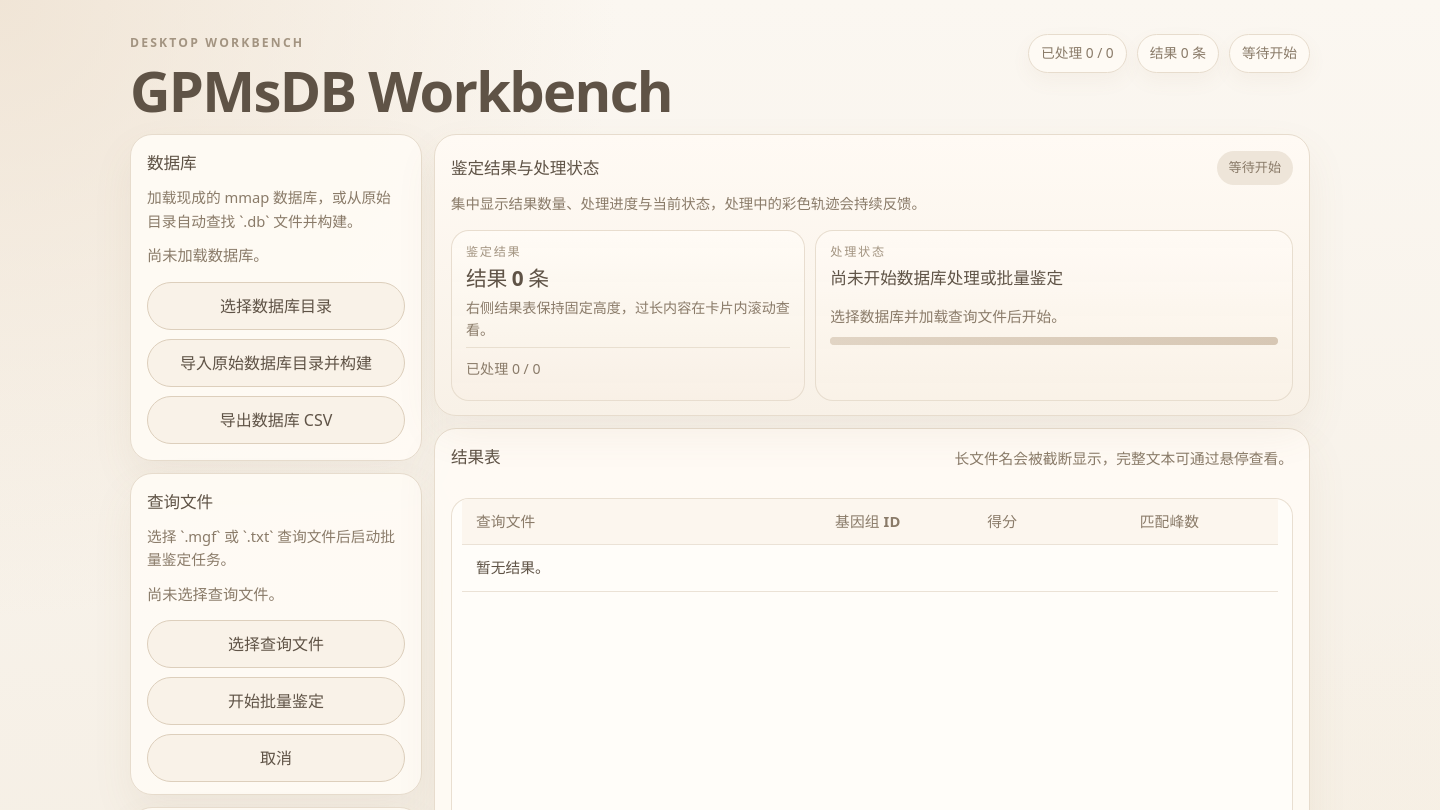
reacts to database selection and batch start button clicks
This screenshot has width=1440, height=810.
Click the button "选择数据库目录".
click(276, 306)  # box 147,282 -> 405,330
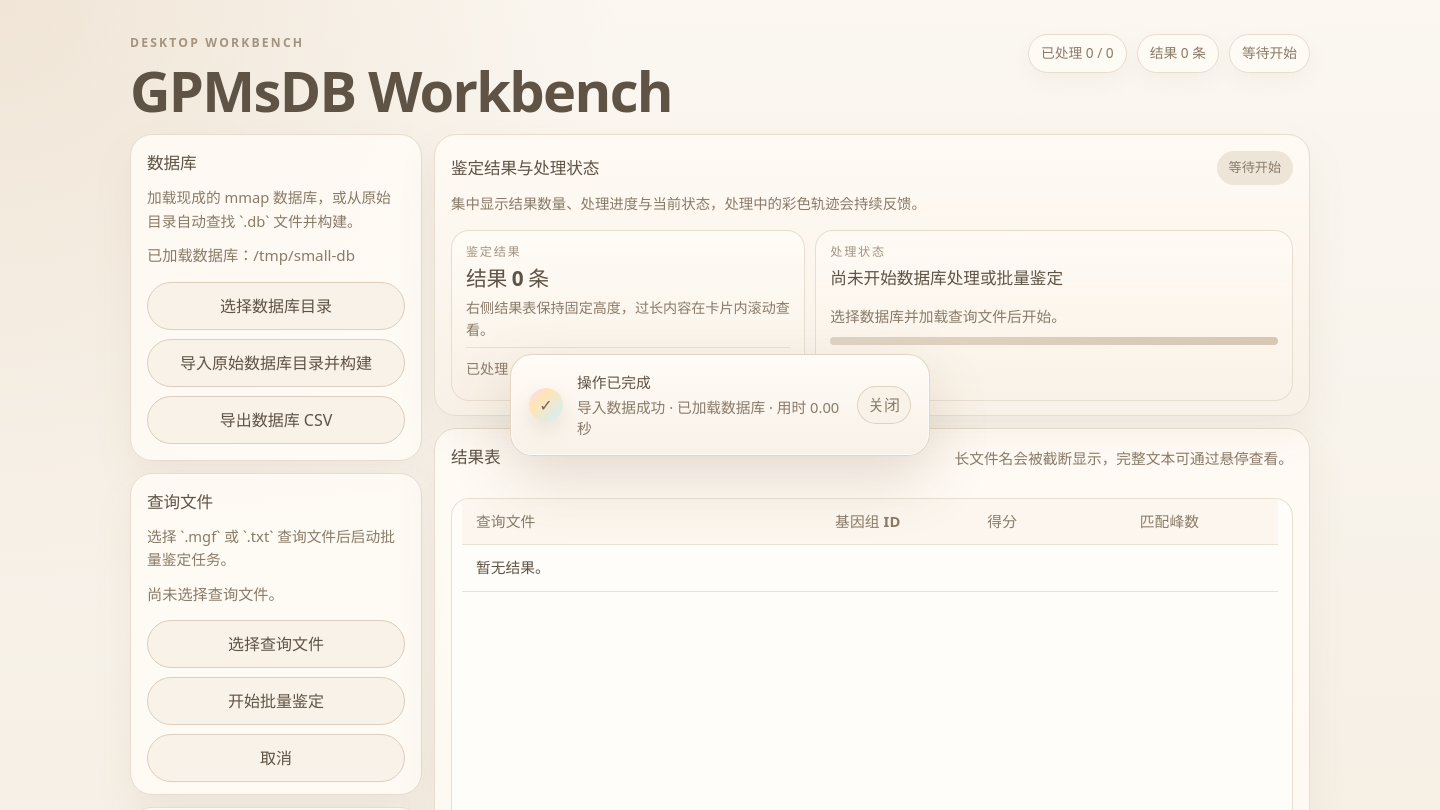
Check: the text "已加载数据库：/tmp/small-db" is shown, box 147,245 -> 355,265
Check: the text "导入数据成功 · 已加载数据库 · 用时 0.00 秒" is shown, box 577,397 -> 843,439
Click the button "导入原始数据库目录并构建".
click(276, 363)  # box 147,339 -> 405,387
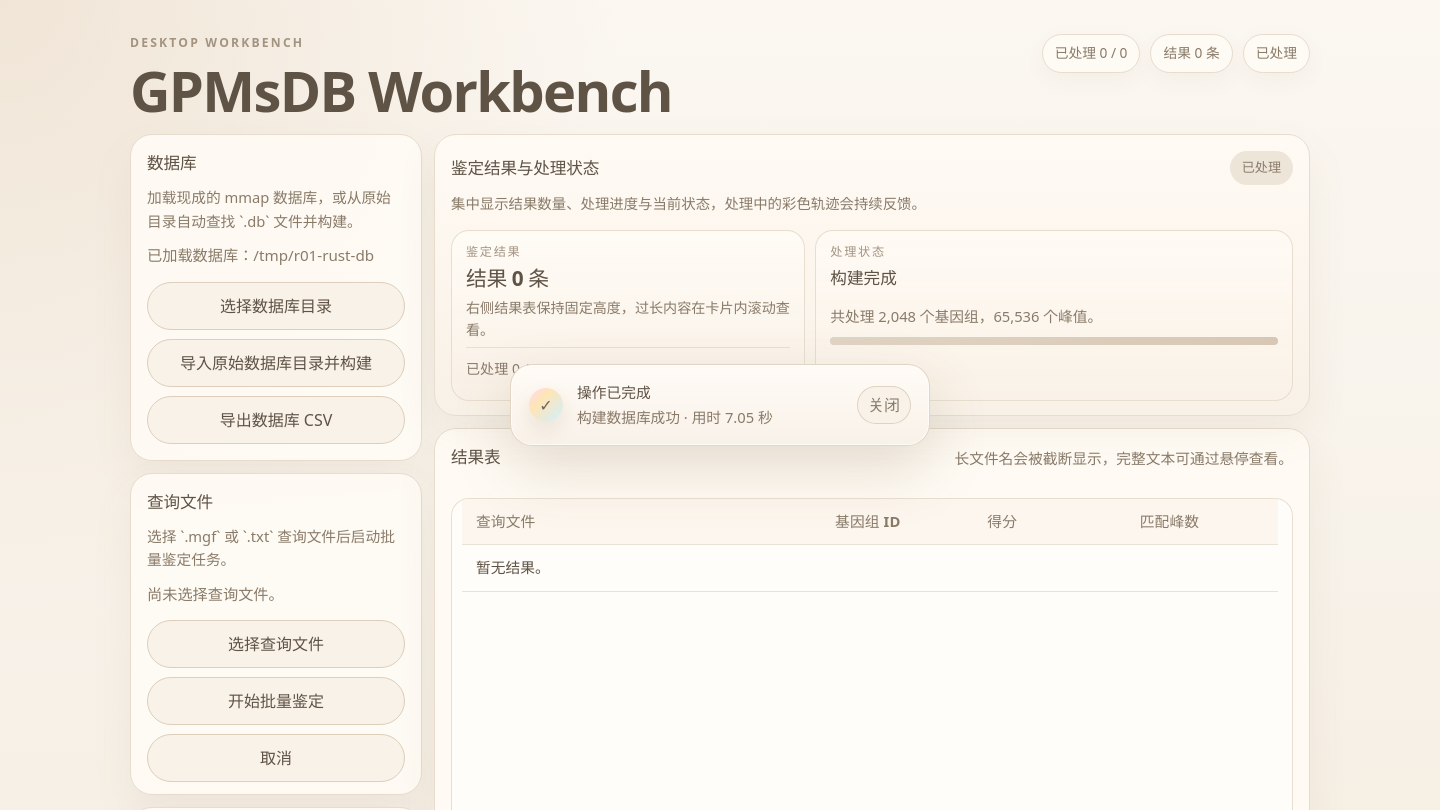
Check: the text "已加载数据库：/tmp/r01-rust-db" is shown, box 147,243 -> 405,268
Check: the text "构建数据库成功 · 用时 7.05 秒" is shown, box 577,407 -> 773,427
Click the button "选择查询文件".
click(276, 644)  # box 147,620 -> 405,668
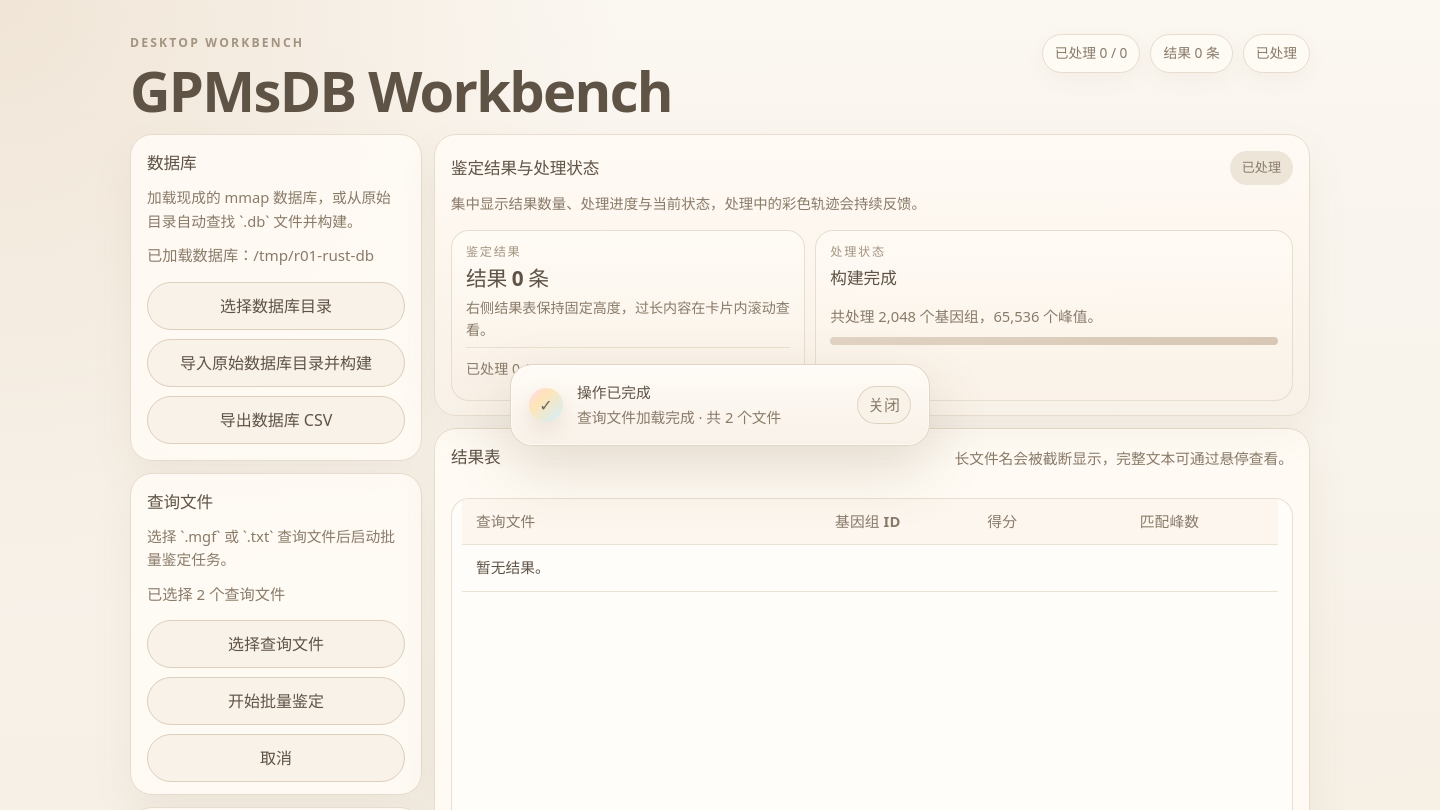
Check: the text "已选择 2 个查询文件" is shown, box 147,584 -> 285,604
Check: the text "查询文件加载完成 · 共 2 个文件" is shown, box 577,407 -> 781,427
Click the button "开始批量鉴定".
click(276, 701)  # box 147,677 -> 405,725
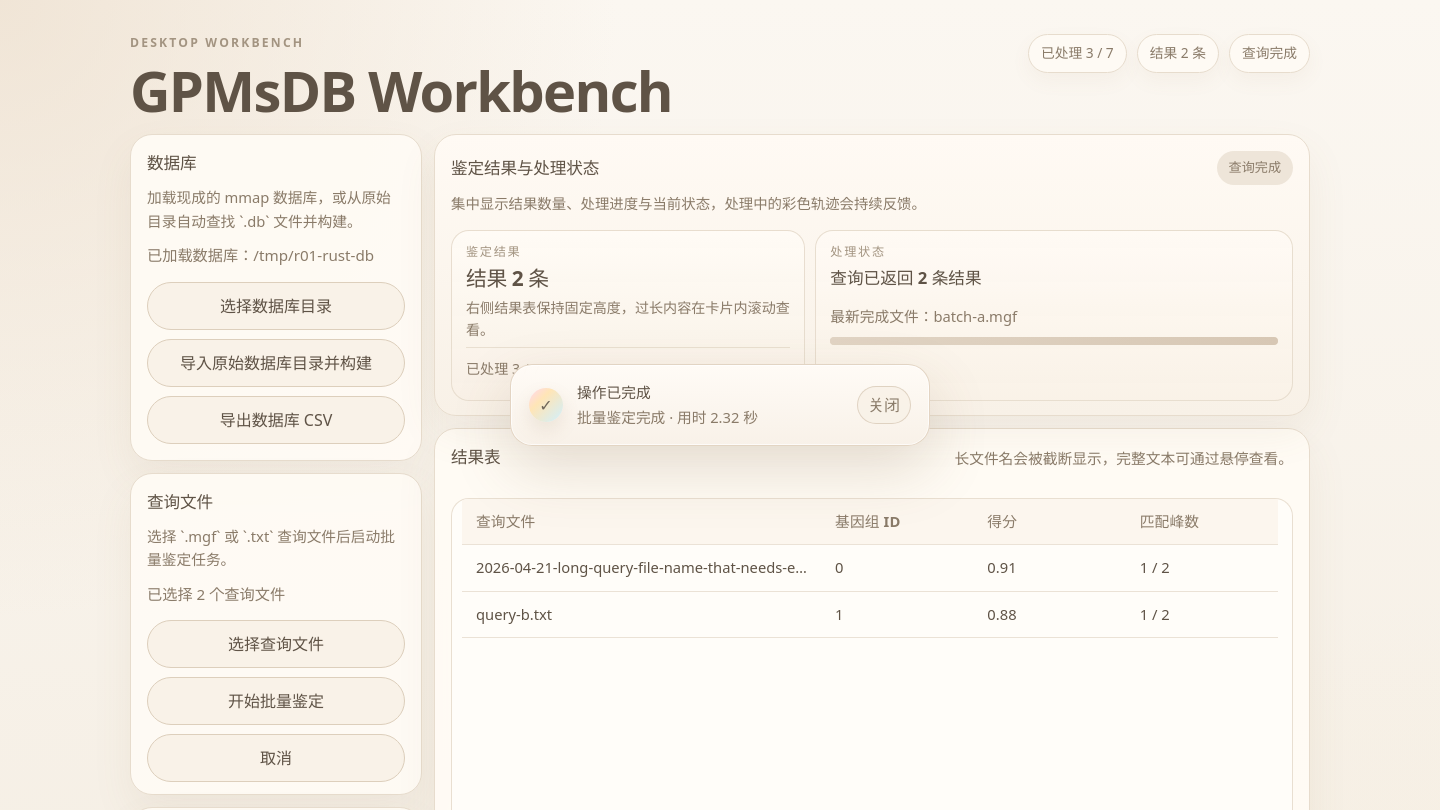
Check: the text "已处理 3 / 7" in the row of "GPMsDB Workbench" is shown, box 1041,43 -> 1114,62
Check: the text "查询完成" in the row of "GPMsDB Workbench" is shown, box 1242,43 -> 1297,62
Check: the text "批量鉴定完成 · 用时 2.32 秒" is shown, box 577,407 -> 758,427
Click the button "导出数据库 CSV".
click(276, 420)  # box 147,396 -> 405,444
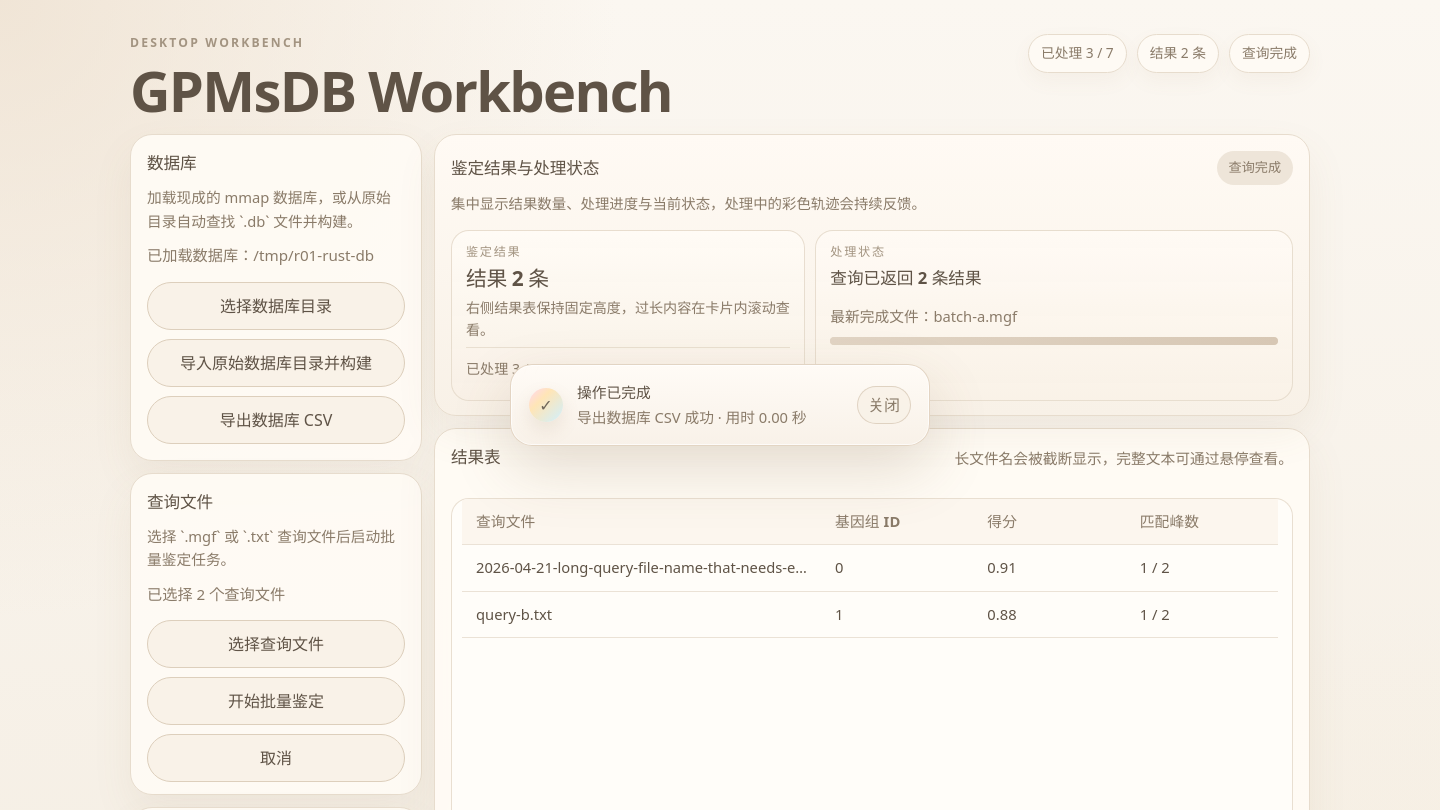
Check: the text "导出数据库 CSV 成功 · 用时 0.00 秒" is shown, box 577,407 -> 843,429
